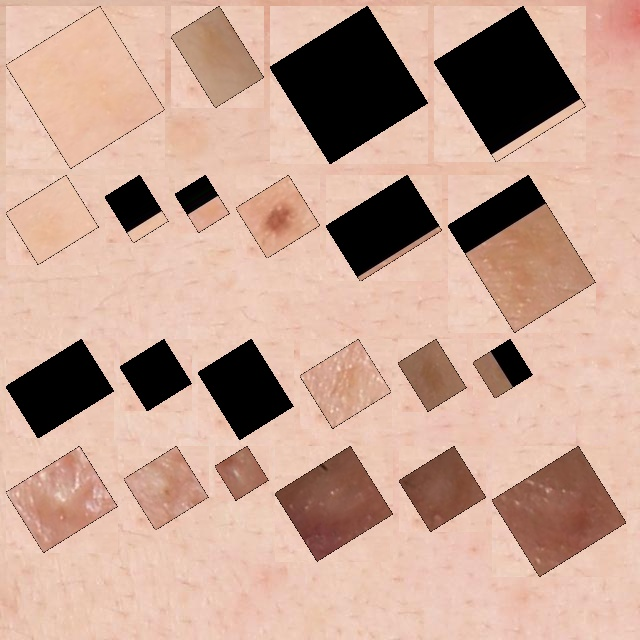hypertrophic_scar: (503, 457, 615, 565), (286, 457, 382, 550), (17, 457, 106, 541), (410, 457, 475, 520), (135, 457, 197, 519), (226, 457, 257, 489)
melasma: (17, 17, 154, 157), (281, 17, 417, 153), (445, 17, 575, 151), (459, 186, 584, 321), (337, 186, 431, 270), (17, 350, 103, 427), (209, 350, 282, 428), (182, 17, 253, 96), (17, 186, 88, 253), (311, 350, 380, 417), (131, 350, 181, 400), (409, 350, 455, 400), (116, 186, 157, 231), (484, 350, 522, 387), (186, 186, 218, 221)
nevus: (247, 186, 309, 247)
